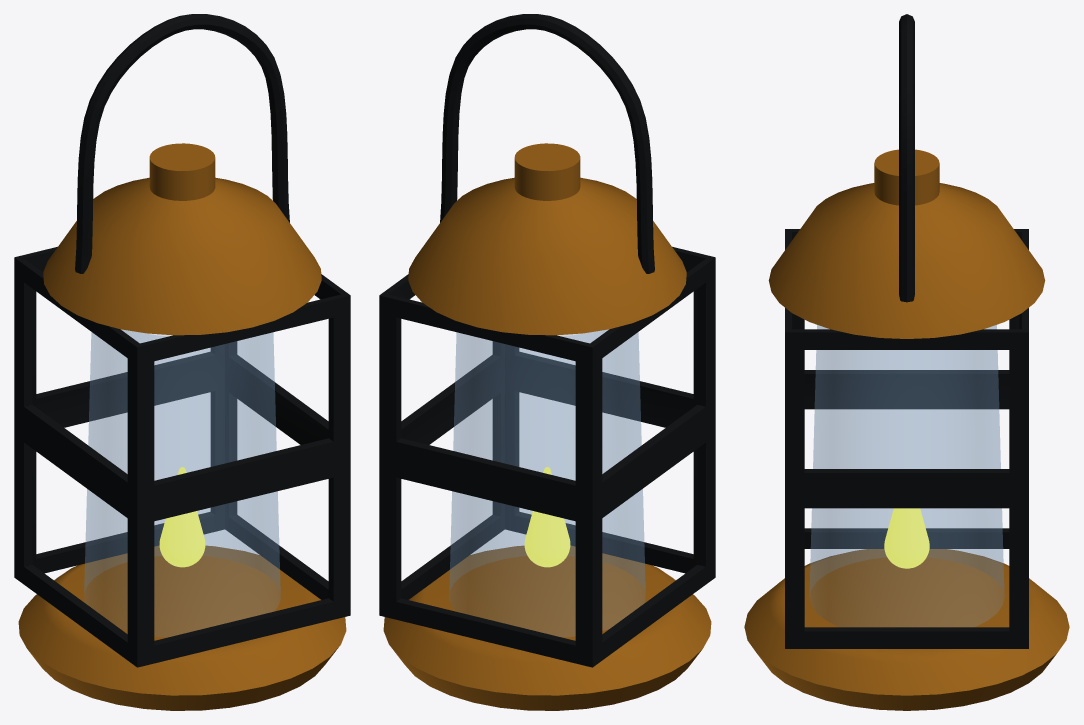
File: lantern.fbx
3 renders of one model, left to right at view 1: azimuth 30°, elevation 25°; view 2: azimuth 150°, elevation 25°; view 3: azimuth 270°, elevation 25°, orthographic.
Visible parts, largest first — view 1: Lantern; view 2: Lantern; view 3: Lantern.
Boxes of the visible parts, <box> form: Lantern: <box>14,14,350,710</box>; Lantern: <box>379,14,715,710</box>; Lantern: <box>744,14,1069,710</box>.
Bounding box in the file's own units: 0.2 × 0.425 × 0.2.
